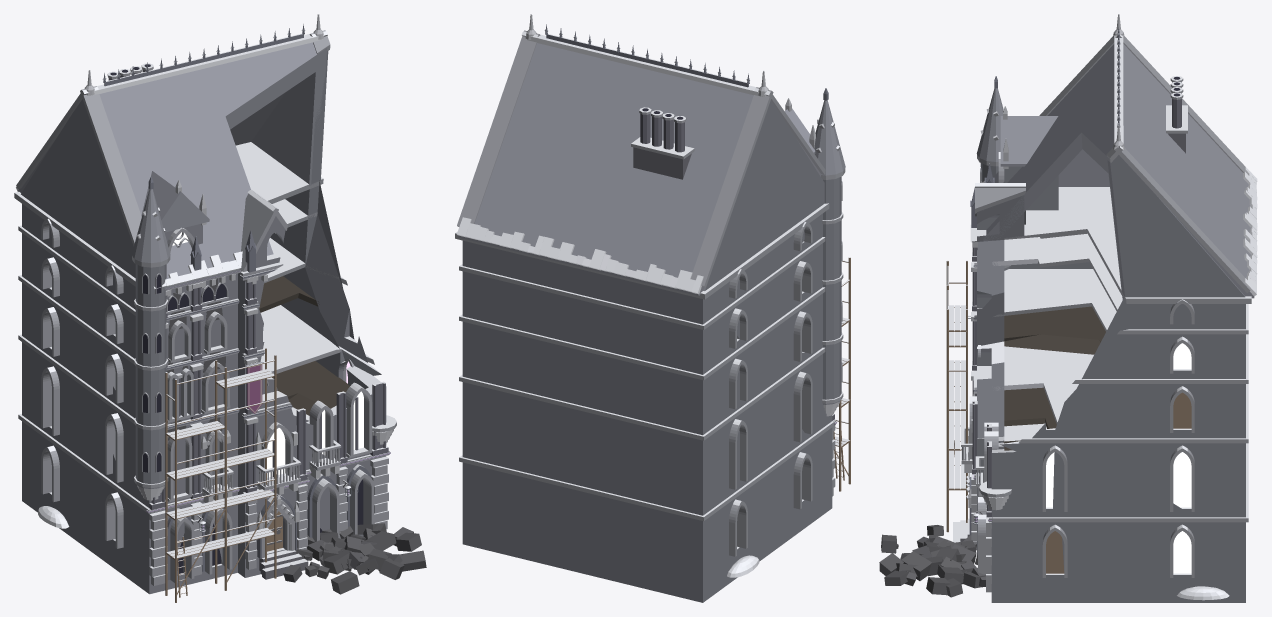
Rendered from AR_Cidade_Mansao_Quebrada.fbx.
3 views of the same model, side by side, from view 1: azimuth 30°, elevation 25°; view 2: azimuth 150°, elevation 25°; view 3: azimuth 270°, elevation 25° (orthographic).
Visible parts, largest first — view 1: AR_Cidade_Mansao_Quebrada; view 2: AR_Cidade_Mansao_Quebrada; view 3: AR_Cidade_Mansao_Quebrada.
Part boxes in pixels (x1,y1,x2,y2): AR_Cidade_Mansao_Quebrada: (14,14,426,602); AR_Cidade_Mansao_Quebrada: (455,14,850,602); AR_Cidade_Mansao_Quebrada: (879,14,1257,602).
Bounding box in the file's own units: 16.67 × 28.84 × 20.79.
